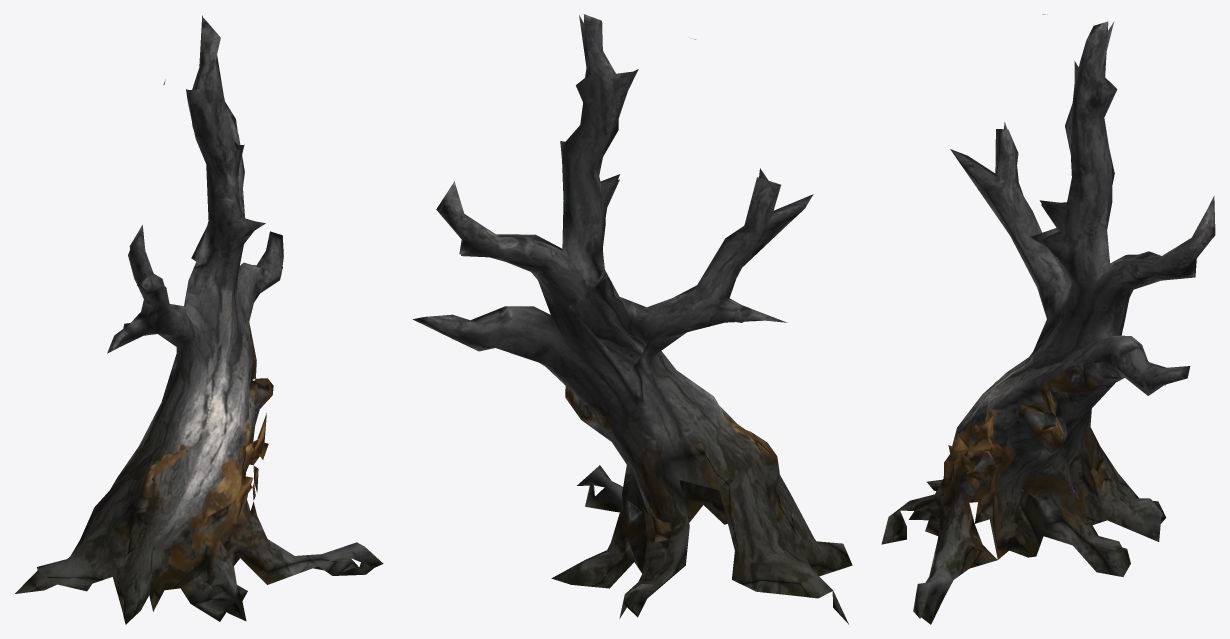
File: tundra-tree-4.glb
3 renders of one model, left to right at view 1: azimuth 30°, elevation 25°; view 2: azimuth 150°, elevation 25°; view 3: azimuth 270°, elevation 25°, orthographic. The views are drawn at different scales.
Parts seen in each view (by area): view 1: geometry_0; view 2: geometry_0; view 3: geometry_0.
Boxes of the visible parts, x1,y1,x2,y2 form: geometry_0: (15, 15, 383, 624); geometry_0: (413, 14, 852, 624); geometry_0: (881, 14, 1215, 624).
Size of the model in its own units: 0.5802 by 0.8754 by 0.4713.
1 material, 1 textured.
